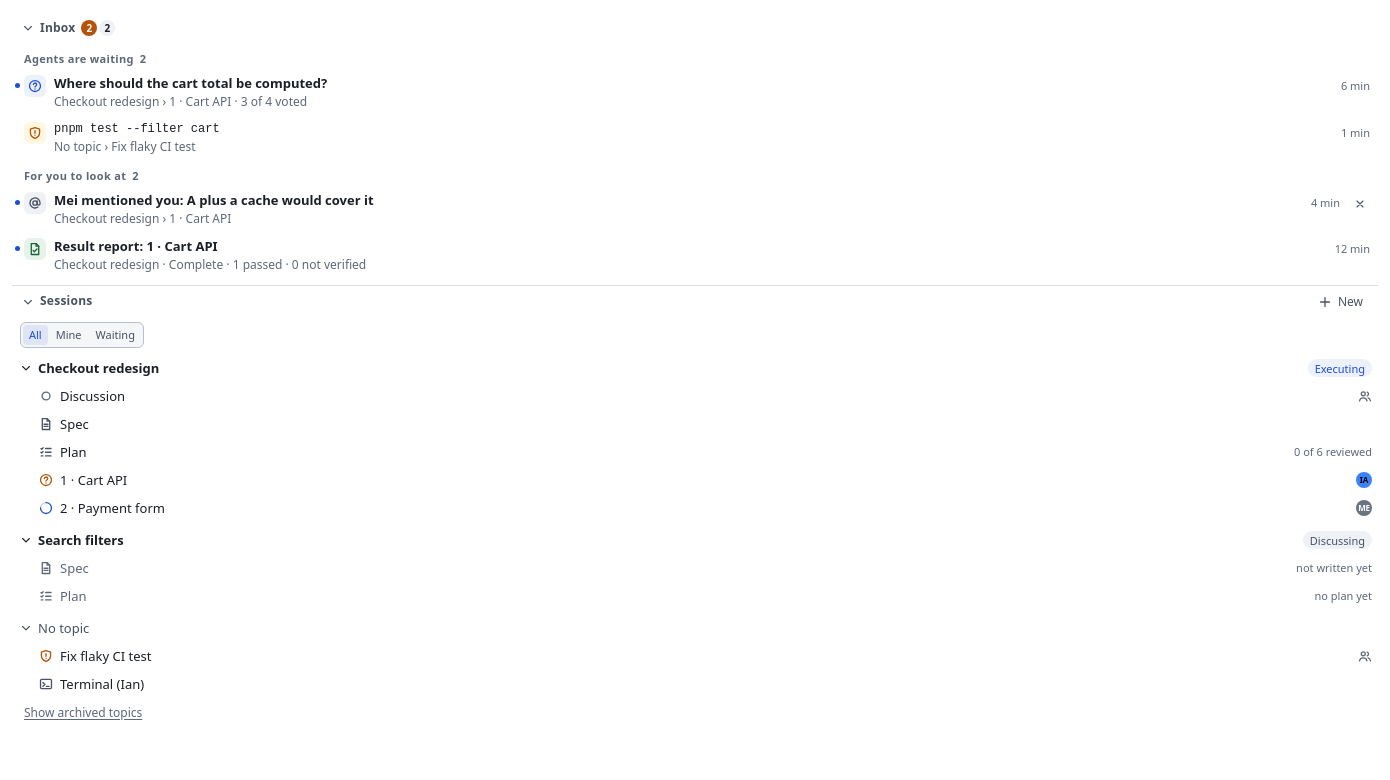
Test: the left column › is the landmark "Inbox and sessions": the inbox above the session list, both collapsible
Click the button "Inbox 2 2" at coordinates (58, 27), box [16,15,1372,41]
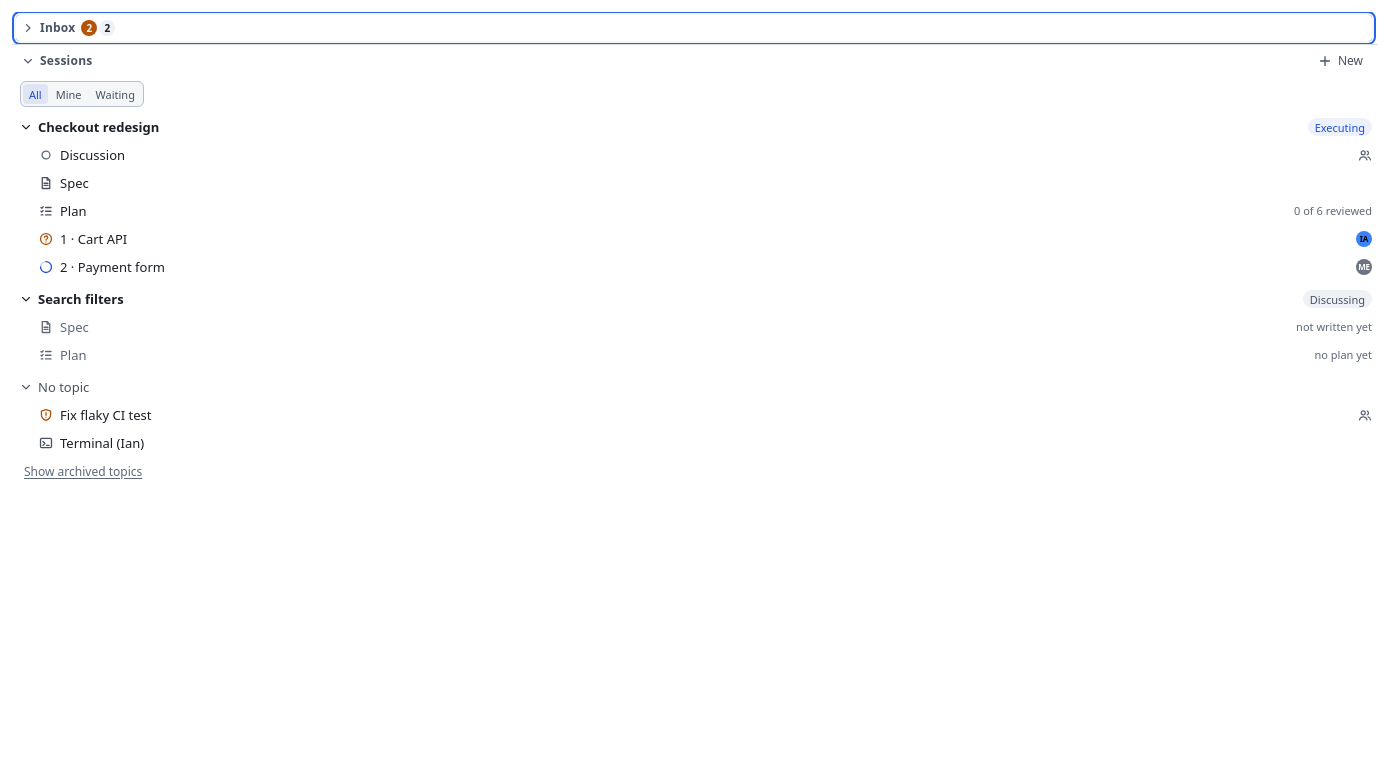
Expected: the button "Inbox 2 2" is collapsed, [16,15,1372,41]
Click the button "Sessions" at coordinates (66, 60), box [16,48,1305,74]
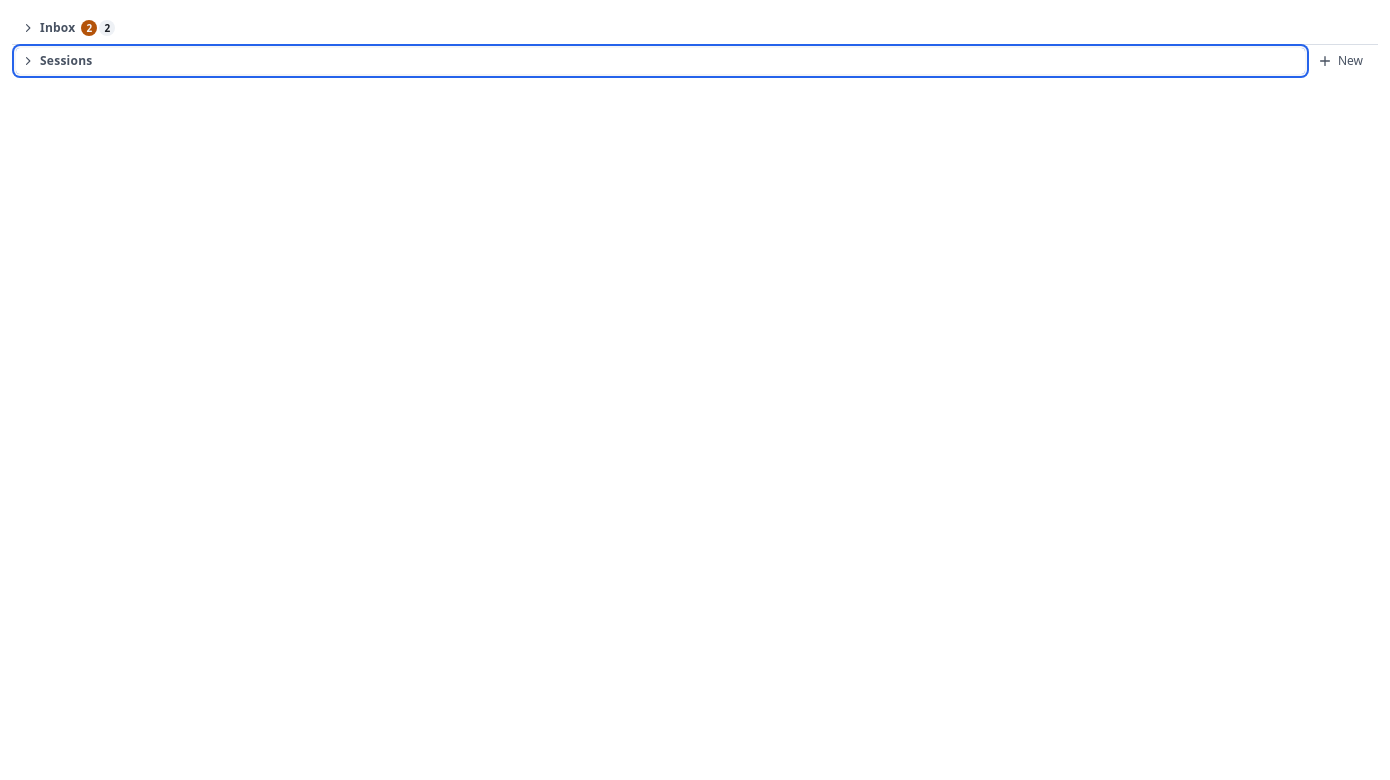
Expected: the button "New" is shown, [1309,49,1372,73]
Expected: the button "Sessions" is collapsed, [16,48,1305,74]
